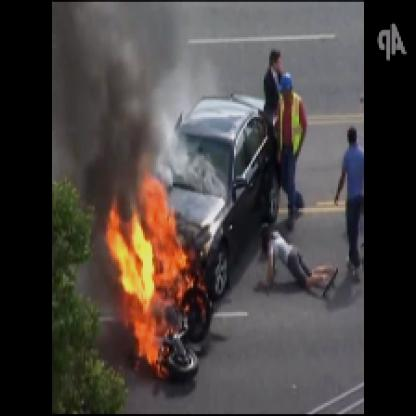Fire: (106, 169, 212, 379)
Smoke: (54, 6, 171, 174)
